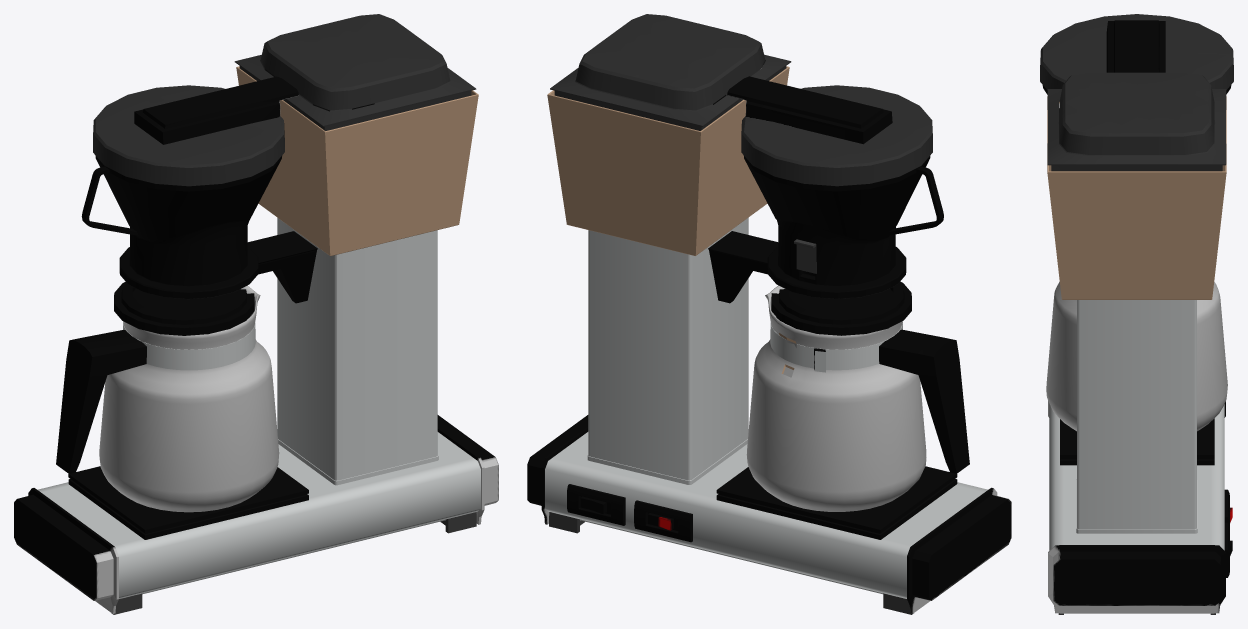
File: FinalCoffeMachine.fbx
3 renders of one model, left to right at view 1: azimuth 30°, elevation 25°; view 2: azimuth 150°, elevation 25°; view 3: azimuth 270°, elevation 25°, orthographic.
Visible parts, largest first — view 1: Body, CoffeeMaker_glass__1_, CoffeeMaker_glass, WaterLid, FilterContainer, CoffeeMaker__1_, FilterLid; view 2: Body, CoffeeMaker_glass__1_, CoffeeMaker_glass, WaterLid, FilterContainer, CoffeeMaker__1_, FilterLid; view 3: Body, CoffeeMaker_glass, WaterLid, FilterLid, CoffeeMaker_glass__1_.
Part boxes in pixels (x1,y1,x2,y2): Body: (14,76,498,614); CoffeeMaker_glass__1_: (99,285,279,512); CoffeeMaker_glass: (236,66,478,256); WaterLid: (234,14,476,130); FilterContainer: (81,155,282,286); CoffeeMaker__1_: (56,281,255,473); FilterLid: (93,85,284,186); Body: (527,65,1011,614); CoffeeMaker_glass__1_: (746,285,926,511); CoffeeMaker_glass: (547,66,789,255); WaterLid: (550,14,791,130); FilterContainer: (743,155,943,285); CoffeeMaker__1_: (770,281,969,473); FilterLid: (741,85,932,186); Body: (1048,20,1229,614); CoffeeMaker_glass: (1047,96,1226,299); WaterLid: (1047,72,1226,171); FilterLid: (1040,14,1233,89); CoffeeMaker_glass__1_: (1046,282,1227,431).
Bounding box in the file's own units: 33.06 × 36.78 × 13.67.
